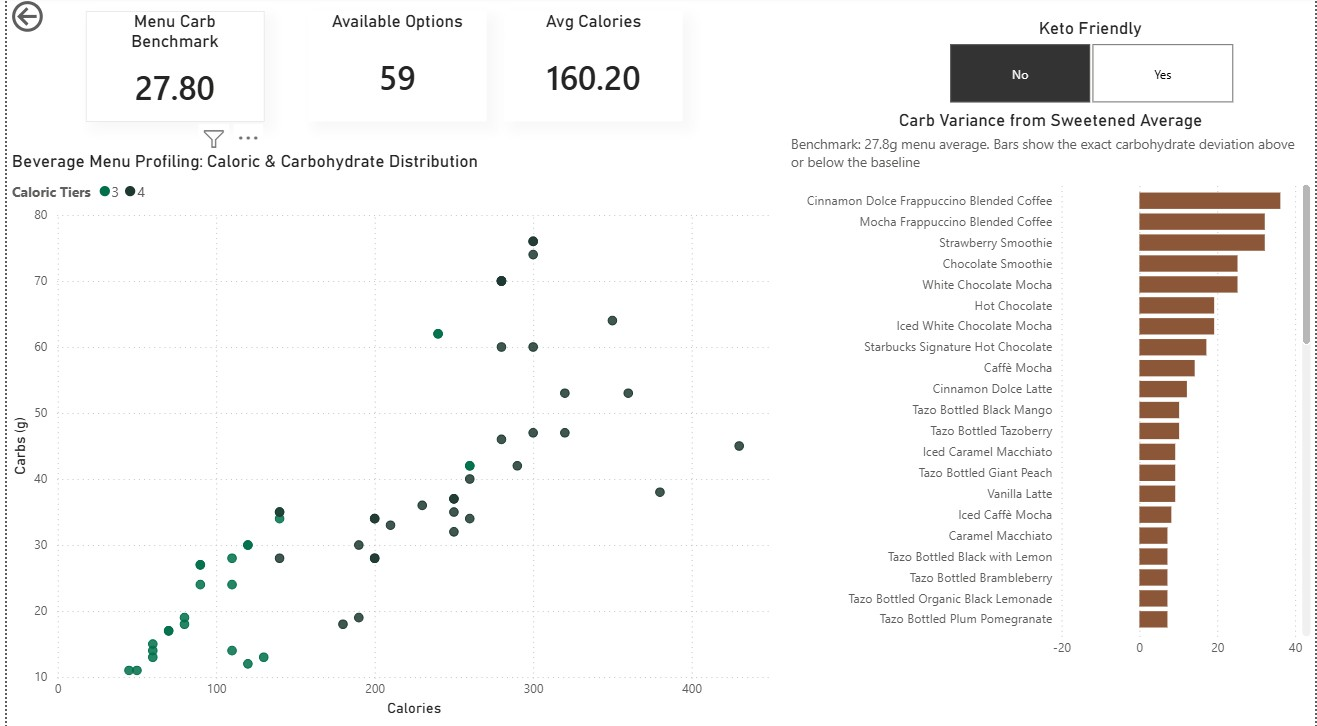

This screenshot's page, from the dashboard's own definition file:
{"tool":"powerbi","page":{"name":"Page 1","canvas":[1280,720],"ordinal":0},"visuals":[{"type":"scatterChart","title":"Beverage Menu Profiling: Caloric & Carbohydrate Distribution","fields":{"X":["Sum(CaloricTiers.Calories)"],"Y":["Sum(CaloricTiers.Carb. (g))"],"Category":["CaloricTiers.Drink Name"],"Series":["CaloricTiers.caloric_tier"]},"box":[0,151.4,762.5,558.3],"z":0},{"type":"actionButton","box":[0,0,100,40],"z":1000},{"type":"clusteredBarChart","title":"Carb Variance from Sweetened Average","fields":{"Category":["Carb_Variance.Drink Name"],"Y":["Avg(Carb_Variance.variance_from_baseline)"]},"box":[761.8,110.8,518.5,543.7],"z":2000},{"type":"slicer","title":"Keto Friendly","fields":{"Values":["Categories.is_keto_friendly"]},"box":[896.3,20.3,327.2,90.6],"z":3000},{"type":"cardVisual","title":"Menu Carb Benchmark","fields":{"Data":["Avg(Carb_Variance.true_carb_baseline)"]},"box":[77.1,14.9,174.4,108.2],"z":4000},{"type":"cardVisual","title":"Available Options","fields":{"Data":["Count(Carb_Variance.Drink Name)"]},"box":[294.7,14.9,174.4,108.2],"z":5000},{"type":"cardVisual","title":"Avg Calories","fields":{"Data":["Avg(Categories.Calories)"]},"box":[486.7,14.9,174.4,108.2],"z":5001}]}

Visuals, with their boxes in screenshot pixels (x1, y1, x2, y2), scaled from the page's 1280x720 canvas onto the 1317x726 screenshot:
"Beverage Menu Profiling: Caloric & Carbohydrate Distribution" scatterChart: <box>0,153,785,716</box>
actionButton: <box>0,0,103,40</box>
"Carb Variance from Sweetened Average" clusteredBarChart: <box>784,112,1316,660</box>
"Keto Friendly" slicer: <box>922,20,1259,112</box>
"Menu Carb Benchmark" cardVisual: <box>79,15,259,124</box>
"Available Options" cardVisual: <box>303,15,483,124</box>
"Avg Calories" cardVisual: <box>501,15,680,124</box>
